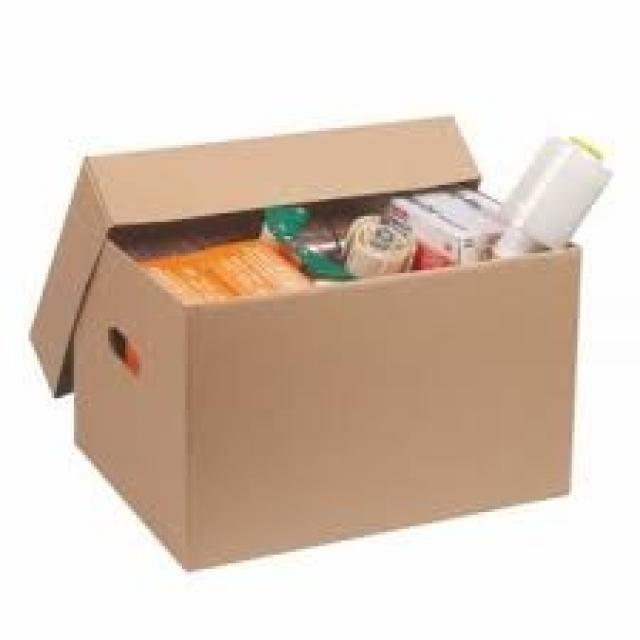cardboard paper: (30, 116, 577, 566)
